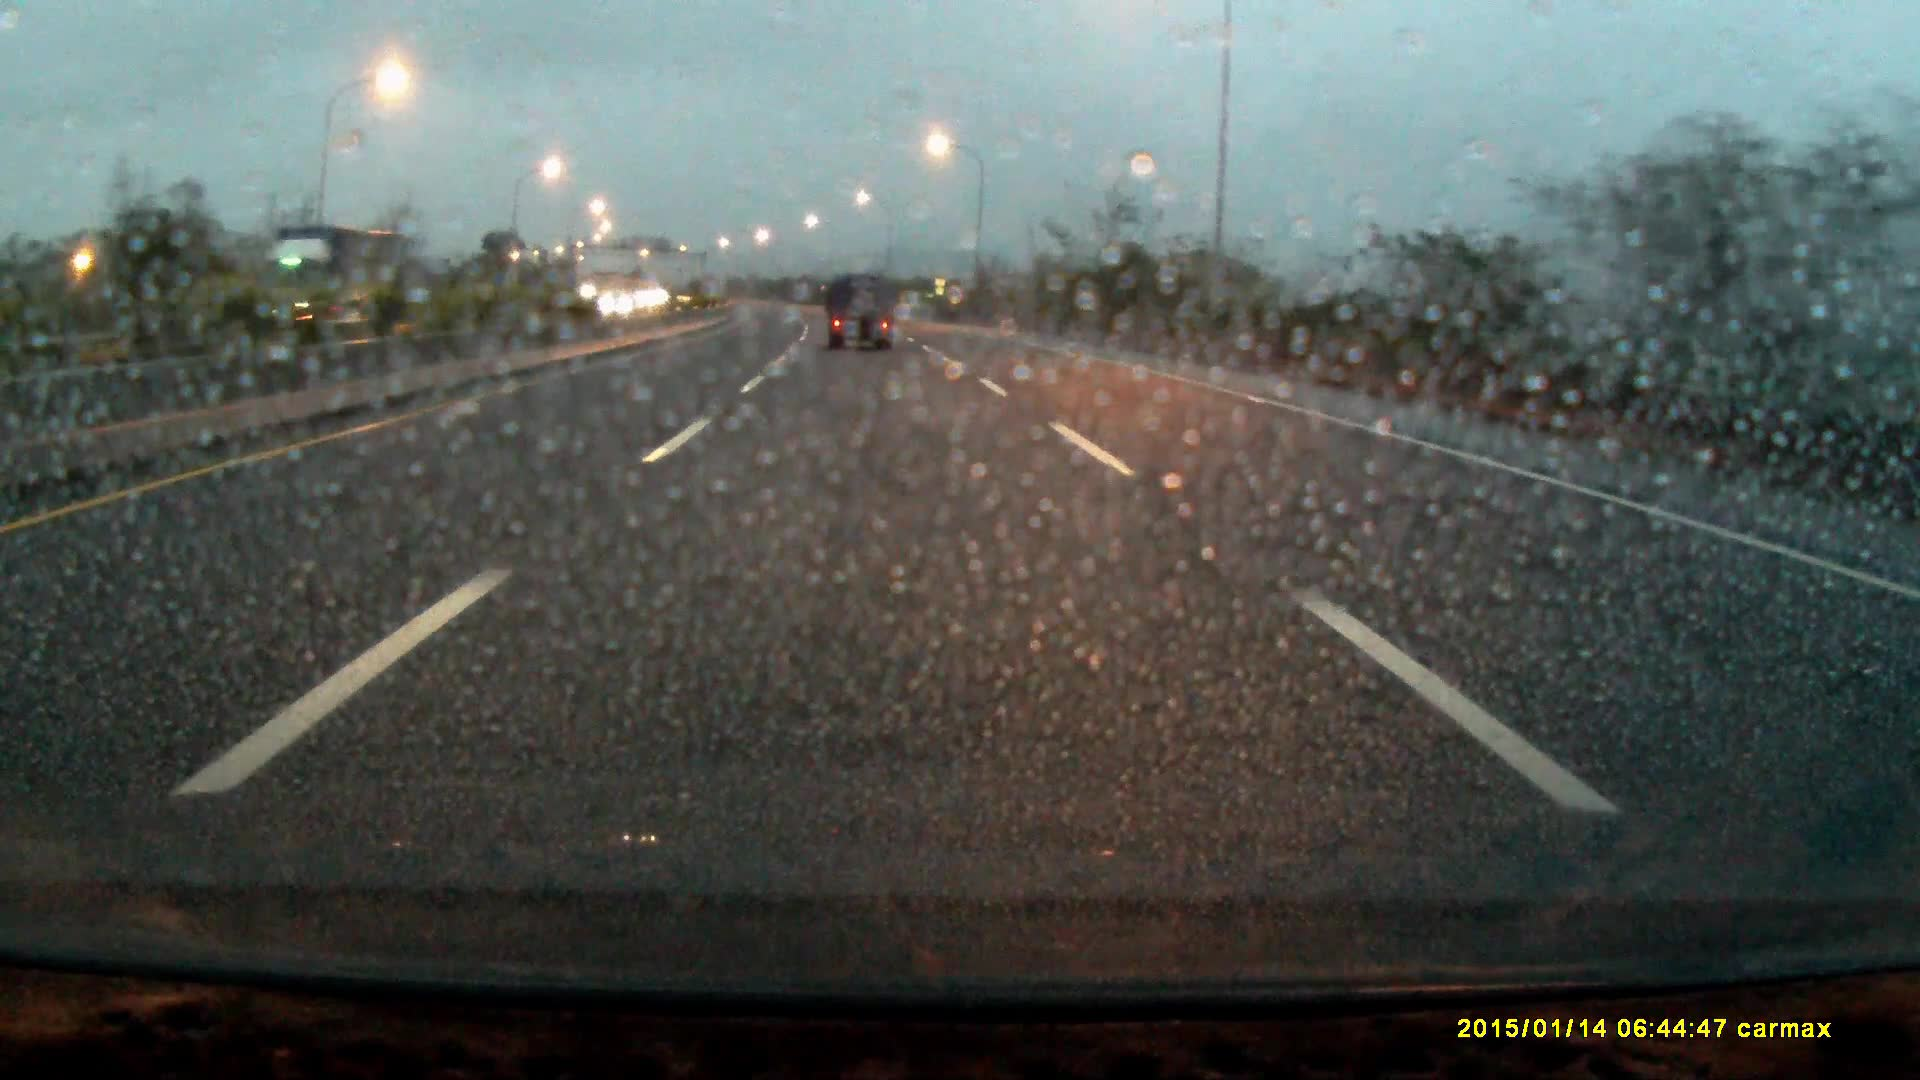vehicle: (232, 224, 400, 343), (825, 276, 899, 349), (604, 291, 647, 313)
